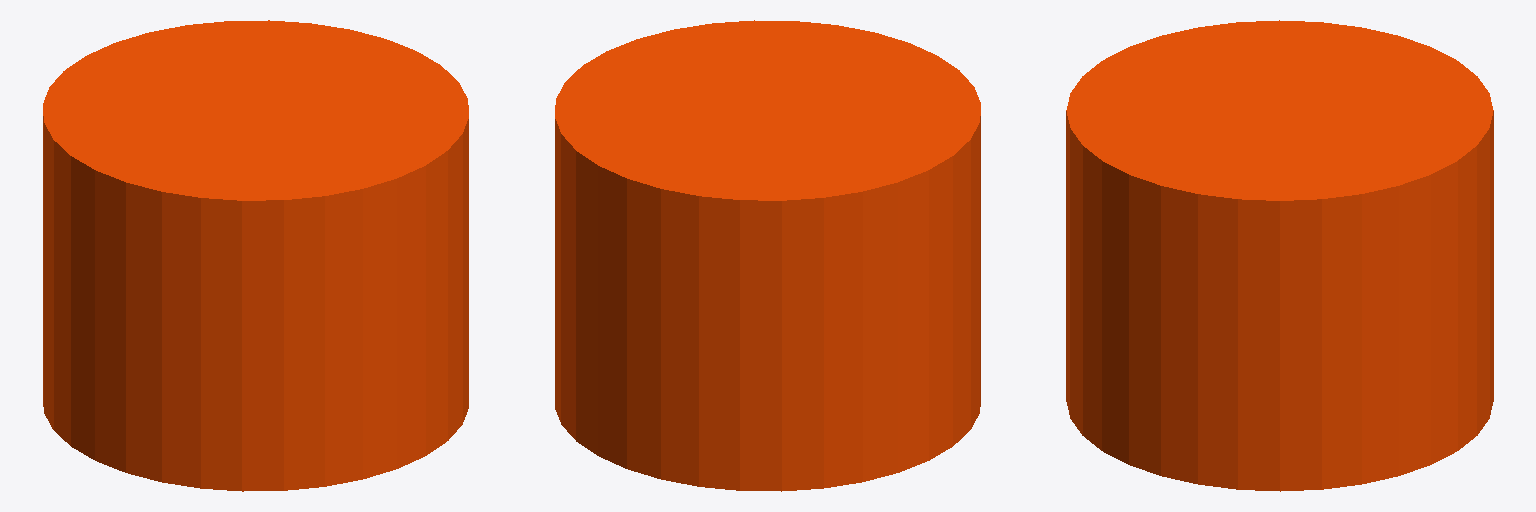
The robot description file, URDF, robot "bravo7_with_sphere_endeffector":
<?xml version="1.0"?>
<robot name="bravo7_with_sphere_endeffector">

    <material name="green">
            <color rgba="0.235 0.702 0.443 1"/>
    </material>

    <material name="blue">
            <color rgba="0.263 0.733 0.984 1"/>
    </material>

    <material name="red">
            <color rgba="1 0 0 1"/>
    </material>

    <material name="black">
            <color rgba="0.8 0.8 0.8 1"/>
    </material>

    <material name="orange">
            <color rgba="1 0.369 0.047 1"/>
    </material>
                             
            <link name="link1">
                <visual>
                    <geometry>
                        <mesh filename="package://example-robot-data/robots/bravo7_description/meshes/RS2-266.stl"/>
                    </geometry>
                    <material name="blue"/>
                </visual>
                <inertial>
                    <mass value="1.25"/>
                    <origin xyz="-0.075 -0.006 -0.003"/>
                    <inertia ixx="0.002108" ixy="0.000182" ixz="-0.000015" iyy="0.002573" iyz="-0.000021" izz="0.003483"/>
                </inertial>
                <collision>
                    <geometry>
                        <mesh filename="package://example-robot-data/robots/bravo7_description/meshes/RS2-266_convex_hull.stl"/>
                    </geometry>
                </collision>
            </link>

                    <joint name="joint1" type="continuous">
                        <parent link="link1"/>
                        <child link="link2"/>
                        <origin rpy="0 0 0" xyz="0.0665 0 0.078"/>
                        <axis xyz="0 0 -1"/>
                    </joint>

            <link name="link2">
                <visual>
                    <geometry>
                        <mesh filename="package://example-robot-data/robots/bravo7_description/meshes/RS2-217.stl"/>
                    </geometry>
                    <material name="green"/>
                </visual>
                <inertial>
                        <mass value="1.55" />
                        <inertia ixx="0.011442" ixy="-0.000484" ixz="0.003405" iyy="0.01298" iyz="-0.001265" izz="0.003202"/>
                        <origin xyz="0.005 -0.001 0.016" />
                </inertial>
                <collision>
                    <geometry>
                        <mesh filename="package://example-robot-data/robots/bravo7_description/meshes/RS2-217_convex_hull.stl"/>
                    </geometry>
                </collision>
            </link>
            
                    <joint name="joint2" type="revolute">
                        <parent link="link2"/>
                        <child link="link3"/>
                        <origin rpy="0 0 0" xyz="-0.046 0 0.0674"/>
                        <axis xyz="0 1 0"/>
                        <limit effort="9.0" lower="0.0" upper="3.5" velocity="0.5"/>
                    </joint>

            <link name="link3">
                <visual>
                    <geometry>
                        <mesh filename="package://example-robot-data/robots/bravo7_description/meshes/RS2-250-212-214.stl"/>
                    </geometry>
                    <material name="blue"/>
                </visual>
                <inertial>
                    <mass value="1.14" />
                    <origin xyz="0.022 -0.029 0.001" />
                    <inertia ixx="0.003213" ixy="-0.001548" ixz="-0.000031" iyy="0.002327" iyz="0.000006" izz="0.00434"/>
                </inertial>
                <collision>
                    <geometry>
                        <mesh filename="package://example-robot-data/robots/bravo7_description/meshes/RS2-250-212-214_convex_hull.stl"/>
                    </geometry>
                </collision>
            </link>

                    <joint name="joint3" type="revolute">
                        <parent link="link3"/>
                        <child link="link4"/>
                        <origin rpy="0 0 0" xyz="-0.0052 0 -0.29055"/>
                        <axis xyz="0 1 0"/>
                        <limit effort="9.0" lower="0.0" upper="3.5" velocity="0.5"/>
                    </joint>

            <link name="link4">
                <visual>
                    <geometry>
                        <mesh filename="package://example-robot-data/robots/bravo7_description/meshes/RS2-268.stl"/>
                    </geometry>
                    <material name="green"/>
                </visual>
                <collision>
                    <geometry>
                        <mesh filename="package://example-robot-data/robots/bravo7_description/meshes/RS2-268_convex_hull.stl"/>
                    </geometry>
                    <material name="green"/>
                </collision>
                <inertial>
                    <origin xyz="0.017 -0.026 -0.002" rpy="0.0 -0.0 0.0" />
                    <mass value="1.14" />
                    <inertia ixx="0.021232" ixy="0.00033" ixz="-0.003738" iyy="0.022252" iyz="-0.001278" izz="0.002054"/>
                </inertial>
            </link>

                    <joint name="joint4" type="continuous">
                        <parent link="link4"/>
                        <child link="link5"/>
                        <origin rpy="0 0 0" xyz="0.0408 0 0.09695"/>
                        <axis xyz="0 0 -1"/>
                    </joint>
                    
            <link name="link5">
                <visual>
                    <geometry>
                        <mesh filename="package://example-robot-data/robots/bravo7_description/meshes/RS2-214.stl"/>
                    </geometry>
                    <material name="blue"/>
                </visual>
                <inertial>
                    <mass value="1.03" />
                    <origin xyz="0.020 -0.024 0.001" />
                    <inertia ixx="0.00243" ixy="-0.001144" ixz="-0.00004" iyy="0.002026" iyz="0.000011" izz="0.00333"/>               
                </inertial>
                <collision>
                    <geometry>
                        <mesh filename="package://example-robot-data/robots/bravo7_description/meshes/RS2-214_convex_hull.stl"/>
                    </geometry>
                </collision>
            </link>

                    <joint name="joint5" type="revolute">
                        <parent link="link5"/>
                        <child link="link6"/>
                        <origin rpy="0 0 0" xyz="-0.0408 0 0.063"/>
                        <axis xyz="0 1 0"/>
                        <limit effort="9.0" lower="0.0" upper="3.5" velocity="0.5"/>
                    </joint>

            <link name="link6">
                <visual>
                    <geometry>
                        <mesh filename="package://example-robot-data/robots/bravo7_description/meshes/RS2-161.stl"/>
                    </geometry>
                    <material name="green"/>
                </visual>
                <inertial>
                    <origin xyz="0.0 0.003 -0.098" rpy="0.0 -0.0 0.0" />
                    <mass value="0.333" />
                    <inertia ixx="0.003709" ixy="-0.000002" ixz="-0.000004" iyy="0.003734" iyz="0.0" izz="0.000079" />
                </inertial>
                <collision>
                    <geometry>
                        <mesh filename="package://example-robot-data/robots/bravo7_description/meshes/RS2-161_convex_hull.stl"/>
                    </geometry>
                </collision>
            </link>

                    <joint name="joint6" type="continuous">
                        <parent link="link6"/>
                        <child link="link7"/>
                        <origin rpy="0 3.14159 0" xyz="-0.0408 0 -0.14863"/>
                        <axis xyz="0 0 -1"/>
                    </joint>

            <link name="link7">
                <visual>
                    <geometry>
                        <mesh filename="package://example-robot-data/robots/bravo7_description/meshes/RS2-180.stl"/>
                    </geometry>
                    <material name="blue"/>
                </visual>
                <inertial>
                    <origin xyz="0.0 0.003 -0.098" />
                    <mass value="1.04" />
                    <inertia ixx="0.022359" ixy="0.000001" ixz="-0.000019" iyy="0.022363" iyz="0.000015" izz="0.000936"/>               
                </inertial>
                <collision>
                    <geometry>
                        <mesh filename="package://example-robot-data/robots/bravo7_description/meshes/RS2-180_convex_hull.stl"/>
                    </geometry>
                </collision>
            </link>

            <link name="force_torque_sensor">
                <visual>
                    <geometry>
                        <cylinder length="0.06" radius="0.04"/>
                    </geometry>
                    <material name="orange"/>
                </visual>
                <collision>
                    <geometry>
                        <cylinder length="0.06" radius="0.04"/>
                    </geometry>
                    <material name="orange"/>
                </collision>
            </link>

                    <joint name="FT_fixed_1" type="fixed">
                        <origin rpy="0 0 1.57" xyz=" 0 0 -0.03"/>
                        <parent link="link7"/>
                        <child link="force_torque_sensor"/>
                    </joint>

            <link name="gripper_push_rod"/>

                    <joint name="gripper_joint" type="prismatic">
                        <origin rpy="0 0 0" xyz="0 0 0.009"/>
                        <parent link="link7"/>
                        <child link="gripper_push_rod"/>
                        <axis xyz="0 0 1"/>
                        <limit effort="10" lower="0" upper="0.035" velocity="10"/>
                    </joint>
        
                    <joint name="bravo_finger_jaws_joint" type="fixed">
                        <parent link="link7"/>
                        <child link="bravo_finger_jaws_base_link" />
                        <origin rpy="3.14 0 0" xyz=" 0.0 0 0.132"/>
                    </joint>

            <link name="bravo_finger_jaws_base_link">
                <visual>
                    <geometry>
                        <mesh filename="package://example-robot-data/robots/bravo7_description/meshes/end_effectors/RS2-257.stl"/>
                    </geometry>
                    <material name="red"/>
                </visual>
                <collision>
                    <geometry>
                        <cylinder length="0.02" radius="0.05"/>
                    </geometry>
                    <origin xyz="0.01 0 0.00" rpy="0 1.5707 0"/>
                </collision>
            </link>

            <link name="bravo_finger1_link">
                <visual>
                    <geometry>
                        <mesh filename="package://example-robot-data/robots/bravo7_description/meshes/end_effectors/RS2-300.stl"/>
                    </geometry>
                    <material name="red"/>
                </visual>
                <collision>
                    <geometry>
                        <box size="0.14 0.04 0.045"/>
                    </geometry>
                    <origin xyz="0.07 0.025 0.00" rpy="0 0 0.35"/>
                </collision>
            </link>

                    <joint name="bravo_finger1_joint" type="revolute">
                        <origin xyz="0.0 -0.033 0" rpy="0 1.57 0"/>
                        <parent link="bravo_finger_jaws_base_link"/>
                        <child link="bravo_finger1_link"/>
                        <axis xyz="0 0 -1"/>
                        <limit lower="0" upper="1.0" effort="10" velocity="10"/>
                        <mimic joint="gripper_joint" multiplier="18" offset="0"/>
                    </joint>

            <link name="bravo_finger2_link">
                <visual>
                    <geometry>
                        <mesh filename="package://example-robot-data/robots/bravo7_description/meshes/end_effectors/RS2-301.stl"/>
                    </geometry>
                    <material name="red"/>
                </visual>
                <collision>
                    <geometry>
                        <box size="0.14 0.04 0.045"/>
                    </geometry>
                    <origin xyz="0.07 -0.025 0.00" rpy="0 0 -0.35"/>
                </collision>
            </link>

                    <joint name="bravo_finger2_joint" type="revolute">
                        <origin xyz="0 0.033 0" rpy="0 1.57 0"/>
                        <parent link="bravo_finger_jaws_base_link"/>
                        <child link="bravo_finger2_link"/>
                        <axis xyz="0 0 1"/>
                        <limit lower="0" upper="1.0" effort="10" velocity="10"/>
                        <mimic joint="bravo_finger1_joint" multiplier="1" offset="0"/>
                    </joint>
            
            <link name="grasping_poing"/>

                    <joint name="grasping_point_joint" type="fixed">
                        <parent link="link7"/>
                        <child link="grasping_poing" />
                        <origin rpy="3.14 0 0" xyz=" 0.0 0 0.175"/>
                    </joint>
</robot>

--- Facts derived from the render (not from the file) ---
3 views of the same robot in one strip: view 1: azimuth 30°, elevation 25°; view 2: azimuth 150°, elevation 25°; view 3: azimuth 270°, elevation 25° (orthographic).
Model bravo7_with_sphere_endeffector with 13 links and 12 joints (5 revolute, 3 continuous, 1 prismatic, 3 fixed), rooted at link1, posed every joint at zero.
Links seen in each view (by area): view 1: force_torque_sensor; view 2: force_torque_sensor; view 3: force_torque_sensor.
Boxes of the visible links, <box> form: force_torque_sensor: <box>43,20,468,491</box>; force_torque_sensor: <box>555,20,980,491</box>; force_torque_sensor: <box>1066,20,1493,491</box>.
Bounding box of the posed robot: 0.08 × 0.08 × 0.06 m (x, y, z).
0 mesh visuals loaded from 10 distinct referenced files (none loaded); not drawn: 10 (reference not matched to a file when rendering).